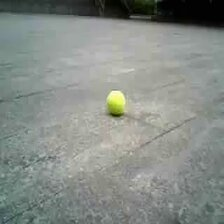tennis: (106, 90, 126, 114)
